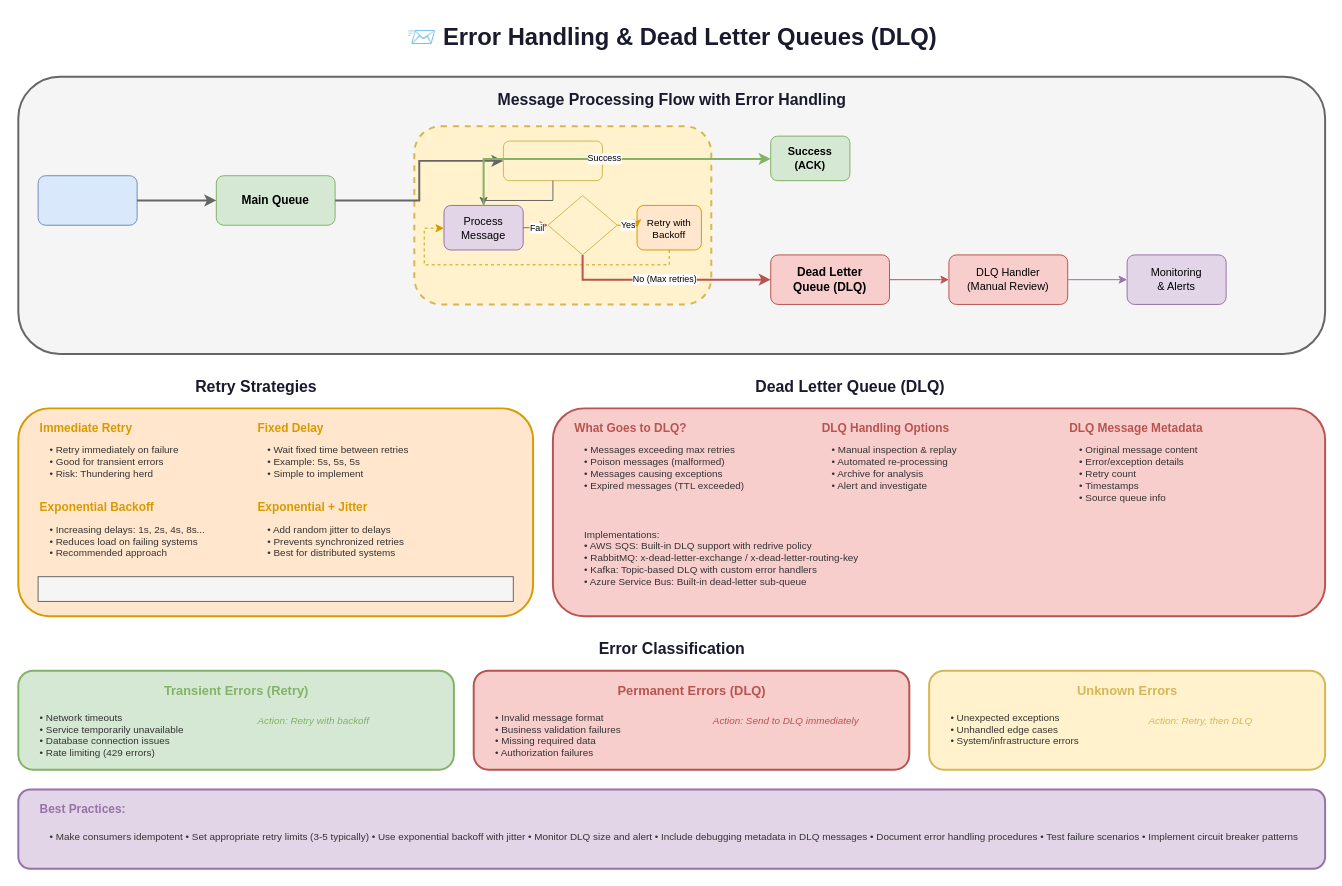
This 1342x886 diagram has some shape labels left out. Each missing label, with the centre of its shape:
"Consumer" belongs at pixel 552 160.
"delay = min(cap, base * 2^attempt) + random(0, jitter)" belongs at pixel 275 588.
"Producer" belongs at pixel 87 200.
"Retry < Max?" belongs at pixel 582 225.
